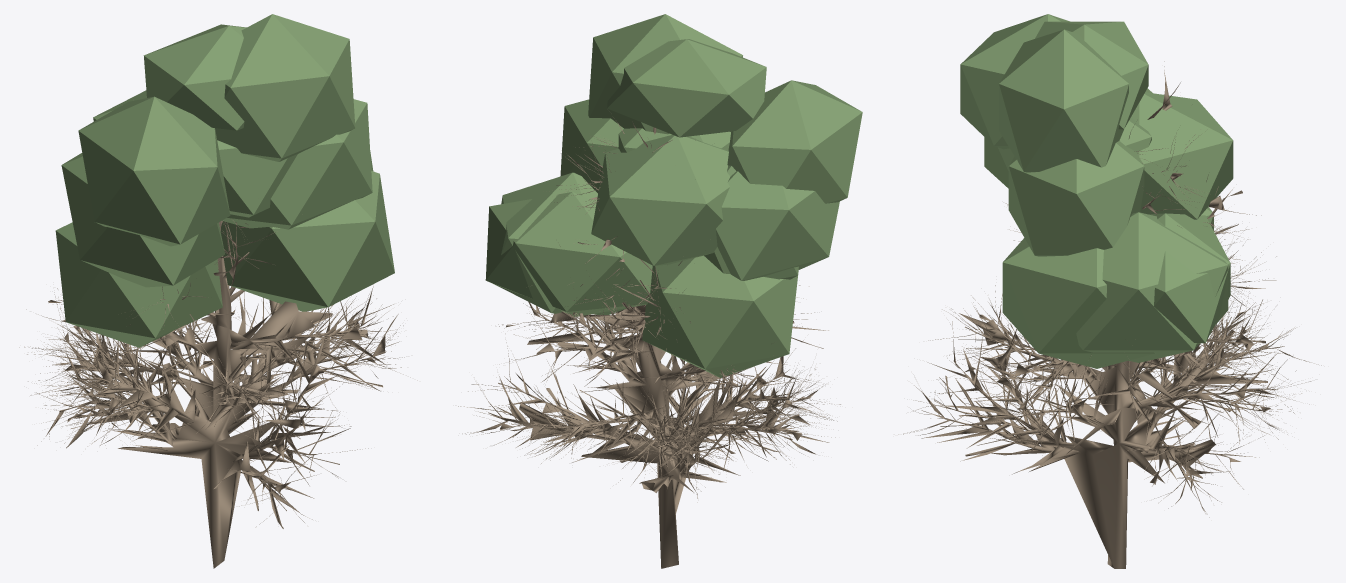
File: StreetConifer_Pine.fbx
3 renders of one model, left to right at view 1: azimuth 30°, elevation 25°; view 2: azimuth 150°, elevation 25°; view 3: azimuth 270°, elevation 25°, orthographic. The views are drawn at different scales.
Visible parts, largest first — view 1: Tree_43, StreetConifer_Pine_leaf_cluster_06, StreetConifer_Pine_leaf_cluster_05, StreetConifer_Pine_leaf_cluster_09, StreetConifer_Pine_leaf_cluster_01, StreetConifer_Pine_leaf_cluster_02, StreetConifer_Pine_leaf_cluster_07, StreetConifer_Pine_leaf_cluster_10, StreetConifer_Pine_leaf_cluster_08; view 2: Tree_43, StreetConifer_Pine_leaf_cluster_03, StreetConifer_Pine_leaf_cluster_01, StreetConifer_Pine_leaf_cluster_11, StreetConifer_Pine_leaf_cluster_06, StreetConifer_Pine_leaf_cluster_10, StreetConifer_Pine_leaf_cluster_02, StreetConifer_Pine_leaf_cluster_05, StreetConifer_Pine_leaf_cluster_07, StreetConifer_Pine_leaf_cluster_00, StreetConifer_Pine_leaf_cluster_08, StreetConifer_Pine_leaf_cluster_04; view 3: Tree_43, StreetConifer_Pine_leaf_cluster_05, StreetConifer_Pine_leaf_cluster_00, StreetConifer_Pine_leaf_cluster_07, StreetConifer_Pine_leaf_cluster_09, StreetConifer_Pine_leaf_cluster_03, StreetConifer_Pine_leaf_cluster_11, StreetConifer_Pine_leaf_cluster_06, StreetConifer_Pine_leaf_cluster_10, StreetConifer_Pine_leaf_cluster_02, StreetConifer_Pine_leaf_cluster_08.
Boxes of the visible parts, x1,y1,x2,y2 form: Tree_43: (19,219,417,568); StreetConifer_Pine_leaf_cluster_06: (78,96,230,246); StreetConifer_Pine_leaf_cluster_05: (215,14,355,161); StreetConifer_Pine_leaf_cluster_09: (220,171,394,311); StreetConifer_Pine_leaf_cluster_01: (55,222,222,347); StreetConifer_Pine_leaf_cluster_02: (61,153,224,287); StreetConifer_Pine_leaf_cluster_07: (222,99,372,229); StreetConifer_Pine_leaf_cluster_10: (143,24,246,130); StreetConifer_Pine_leaf_cluster_08: (217,140,297,217); Tree_43: (458,117,840,568); StreetConifer_Pine_leaf_cluster_03: (591,135,730,265); StreetConifer_Pine_leaf_cluster_01: (642,255,798,377); StreetConifer_Pine_leaf_cluster_11: (485,192,652,317); StreetConifer_Pine_leaf_cluster_06: (727,80,862,203); StreetConifer_Pine_leaf_cluster_10: (607,39,766,137); StreetConifer_Pine_leaf_cluster_02: (716,171,839,280); StreetConifer_Pine_leaf_cluster_05: (588,14,742,134); StreetConifer_Pine_leaf_cluster_07: (560,99,623,193); StreetConifer_Pine_leaf_cluster_00: (495,172,597,313); StreetConifer_Pine_leaf_cluster_08: (618,128,730,152); StreetConifer_Pine_leaf_cluster_04: (704,165,798,279); Tree_43: (898,61,1321,568); StreetConifer_Pine_leaf_cluster_05: (999,29,1128,172); StreetConifer_Pine_leaf_cluster_00: (1076,212,1228,362); StreetConifer_Pine_leaf_cluster_07: (1008,141,1144,256); StreetConifer_Pine_leaf_cluster_09: (1002,238,1155,368); StreetConifer_Pine_leaf_cluster_03: (1131,92,1233,219); StreetConifer_Pine_leaf_cluster_11: (1148,213,1230,343); StreetConifer_Pine_leaf_cluster_06: (960,14,1069,149); StreetConifer_Pine_leaf_cluster_10: (1035,21,1148,129); StreetConifer_Pine_leaf_cluster_02: (984,88,1152,188); StreetConifer_Pine_leaf_cluster_08: (1119,117,1151,153).
Bounding box in the file's own units: 403 × 599 × 433.
